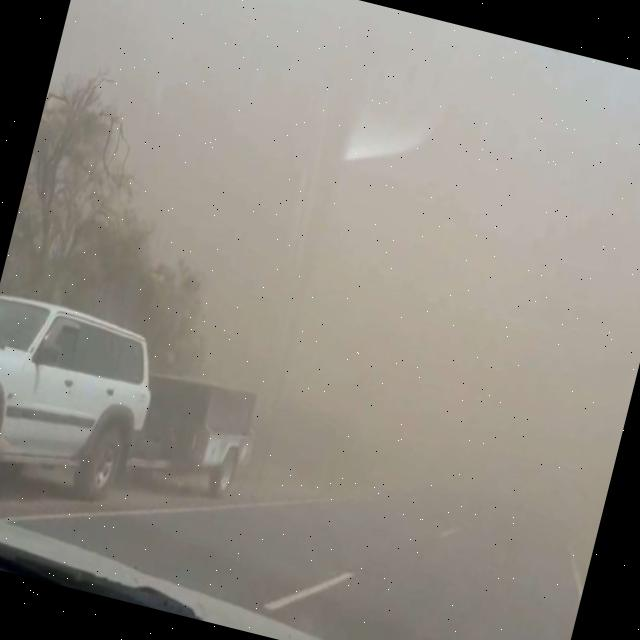car: (0, 277, 167, 549)
